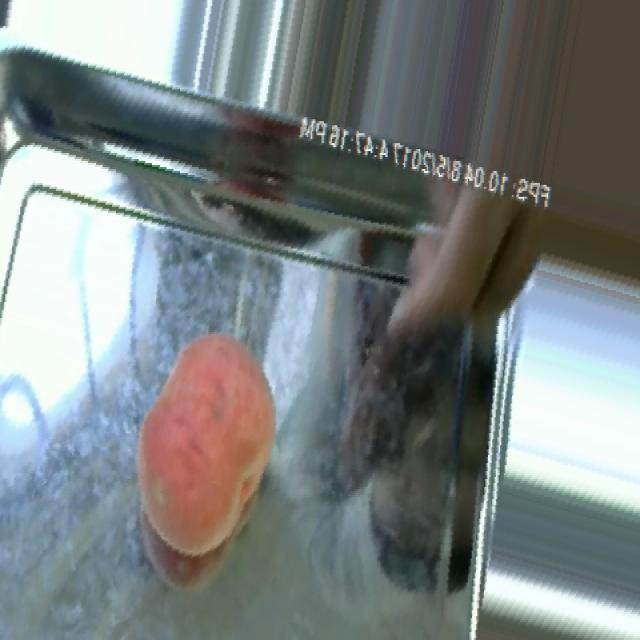Fruit: (103, 308, 300, 576)
